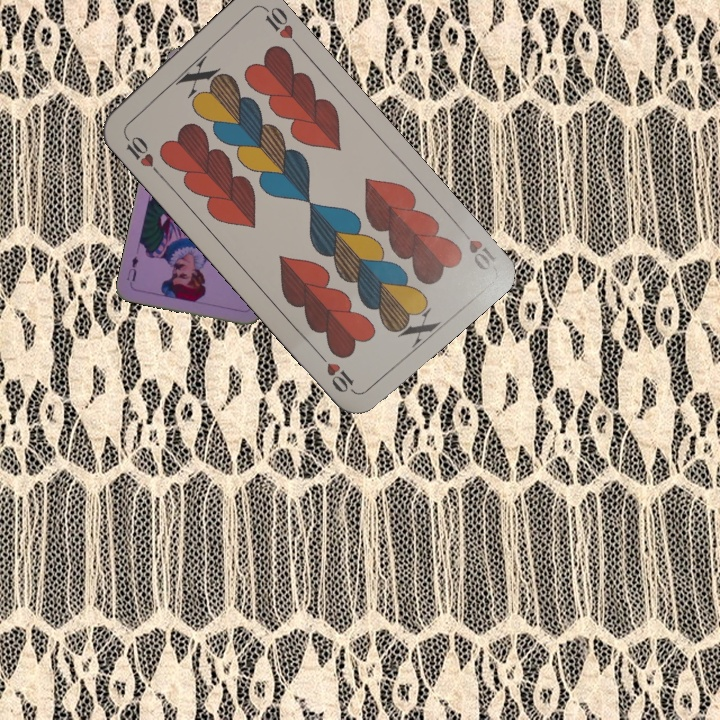H10: (453, 221, 499, 273), (119, 128, 162, 178)
